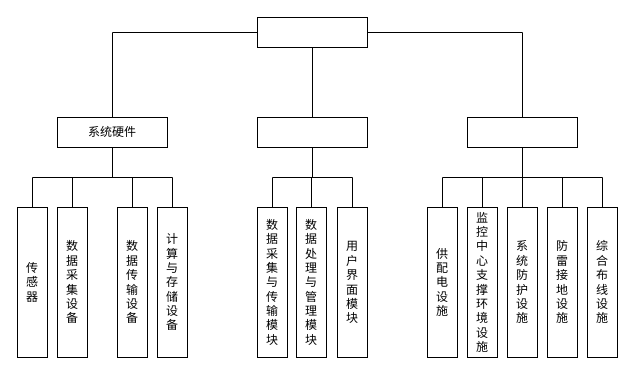
The diagram is 635 pixels wide and 375 high, and some of its shapes have lost their labels. The centre of each missing label's shape, as x and y in pixels:
基础设施标准: point (312, 32)
系统软件: point (312, 132)
配套设施: point (522, 132)
